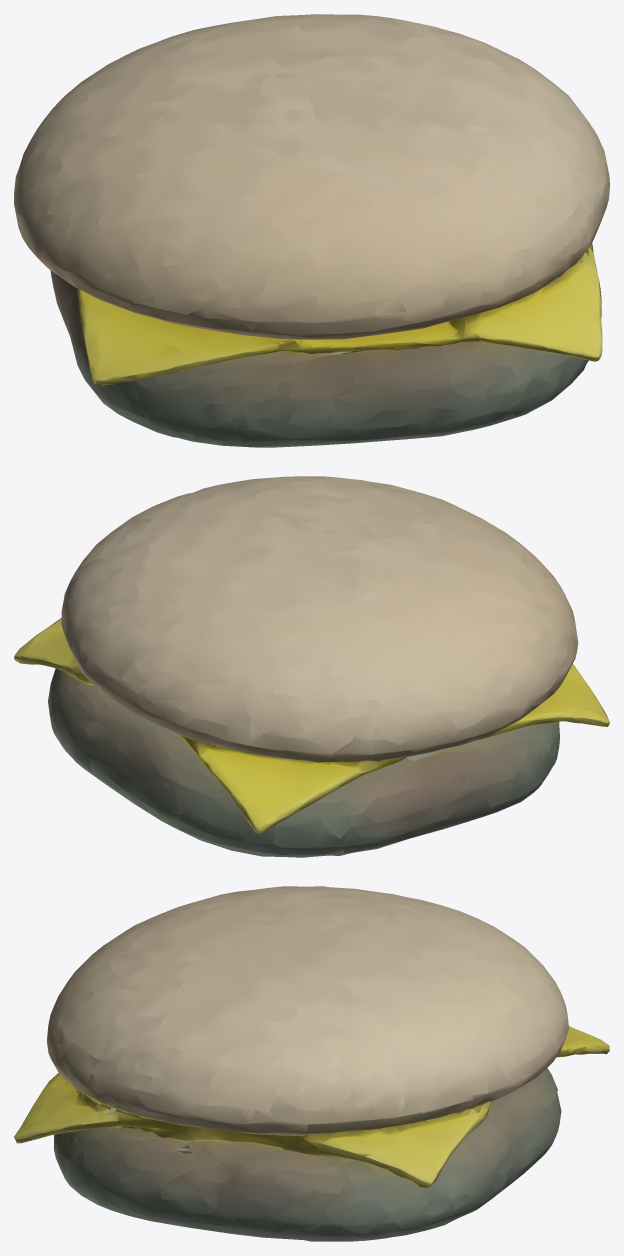
File: 0003_mask_004_toy_burger.glb
3 renders of one model, top to bottom at view 1: azimuth 30°, elevation 25°; view 2: azimuth 150°, elevation 25°; view 3: azimuth 270°, elevation 25°, orthographic. The views are drawn at different scales.
Parts seen in each view (by area): view 1: mask_004_object; view 2: mask_004_object; view 3: mask_004_object.
Boxes of the visible parts, box(x1,y1,x2,y2) form: mask_004_object: box(14, 14, 609, 447); mask_004_object: box(14, 476, 609, 857); mask_004_object: box(14, 886, 609, 1241).
Bounding box in the file's own units: 0.1308 × 0.0627 × 0.1415.
